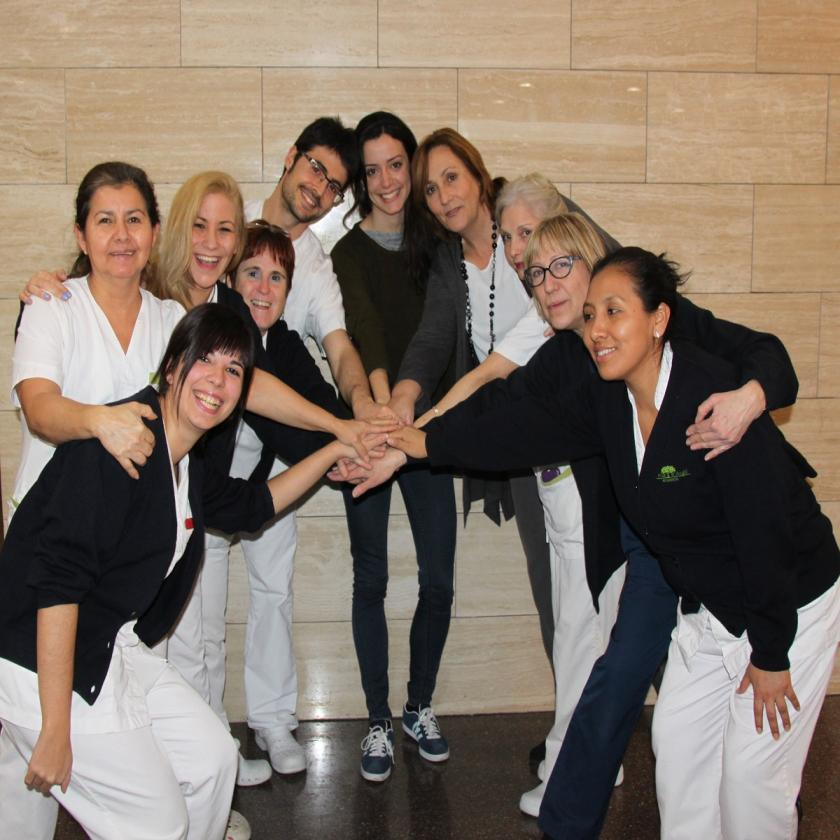Sin_casco: (66, 155, 168, 300), (172, 300, 258, 471), (587, 249, 678, 384), (522, 214, 608, 352), (169, 162, 249, 303), (412, 121, 498, 252), (281, 109, 368, 238), (349, 106, 427, 227), (487, 167, 571, 271), (237, 216, 304, 346)
